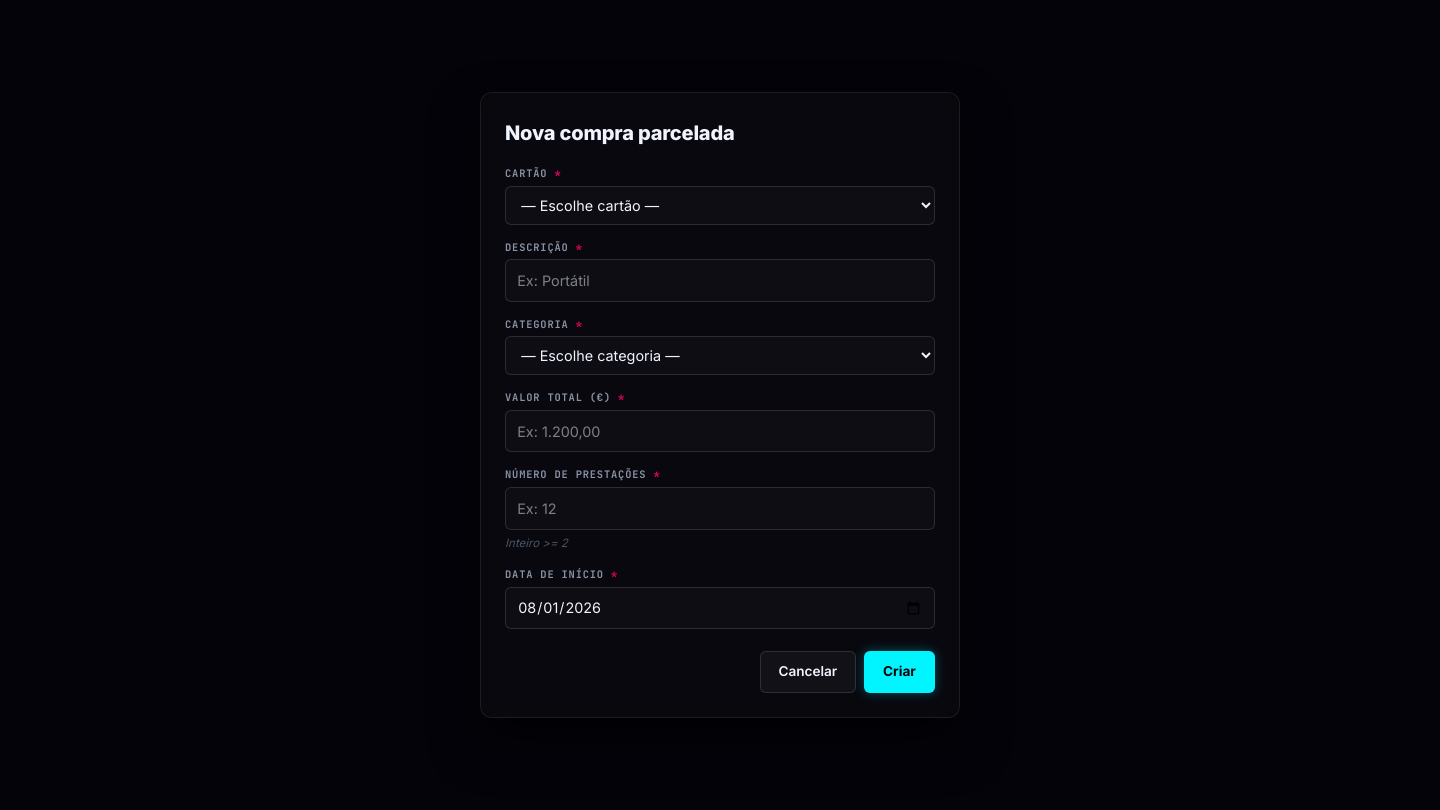
InstallmentFormModal (Story 9.1b / cobertura finanças) › caminho de erro 1 — campos obrigatórios em falta
The width and height of the screenshot is (1440, 810).
Click the button "Criar": [899, 672] box [864,651,935,693]
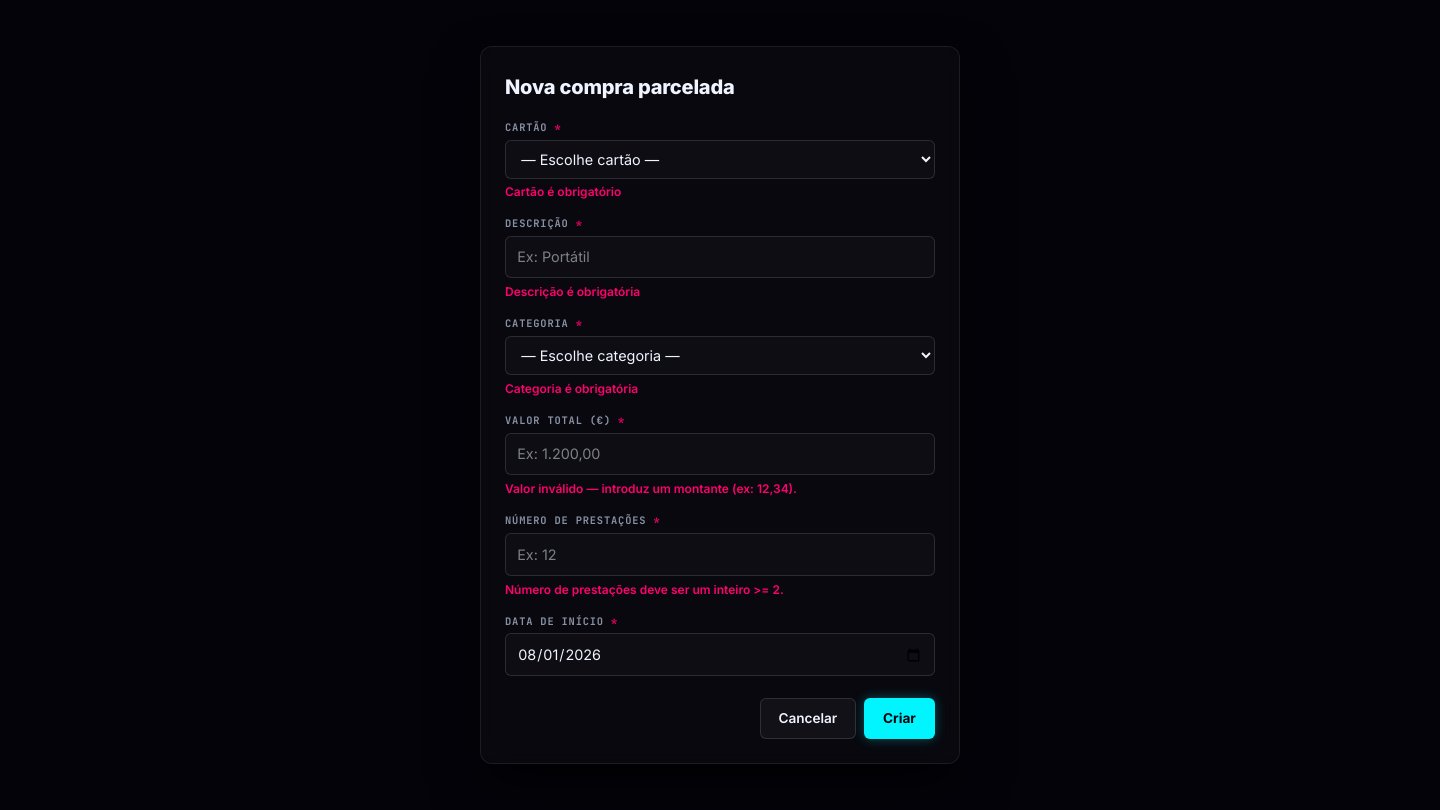
Now the text "Cartão é obrigatório" is shown, box [505,184,621,199]
Now the text "Descrição é obrigatória" is shown, box [505,284,640,299]
Now the text "Categoria é obrigatória" is shown, box [505,381,638,396]
